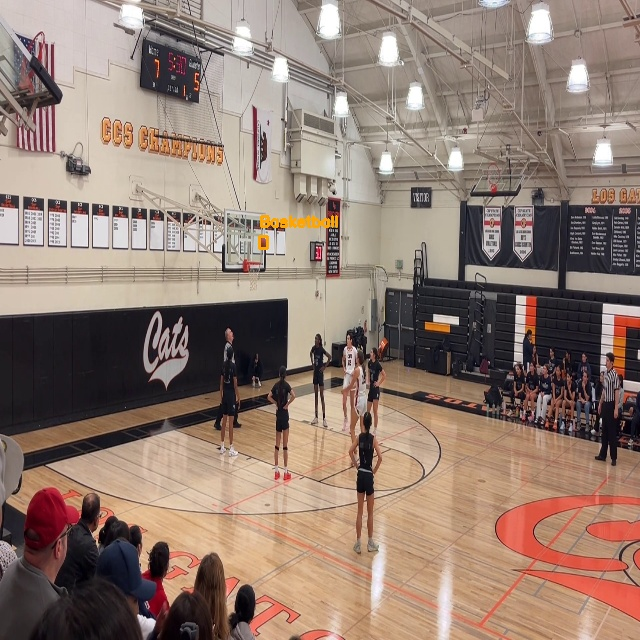Basketball: (259, 236, 267, 248)
